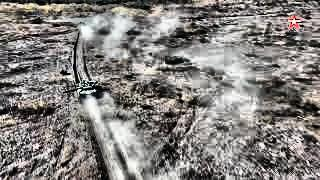military-vehicle: (64, 80, 99, 99)
